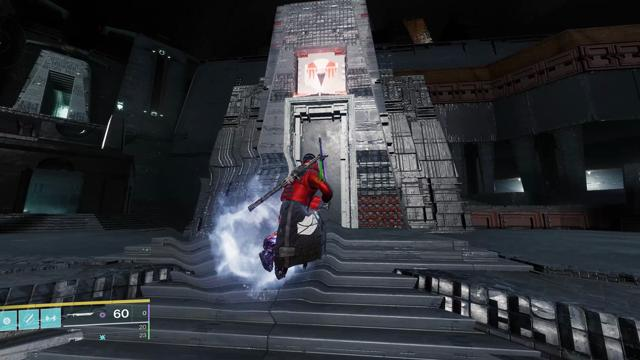give: (305, 58, 338, 89)
